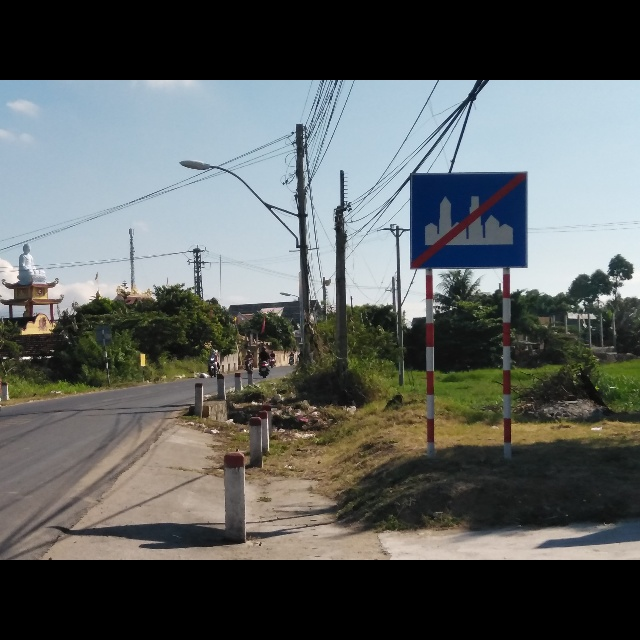Hết khu đông dân cư: (405, 168, 523, 271)
